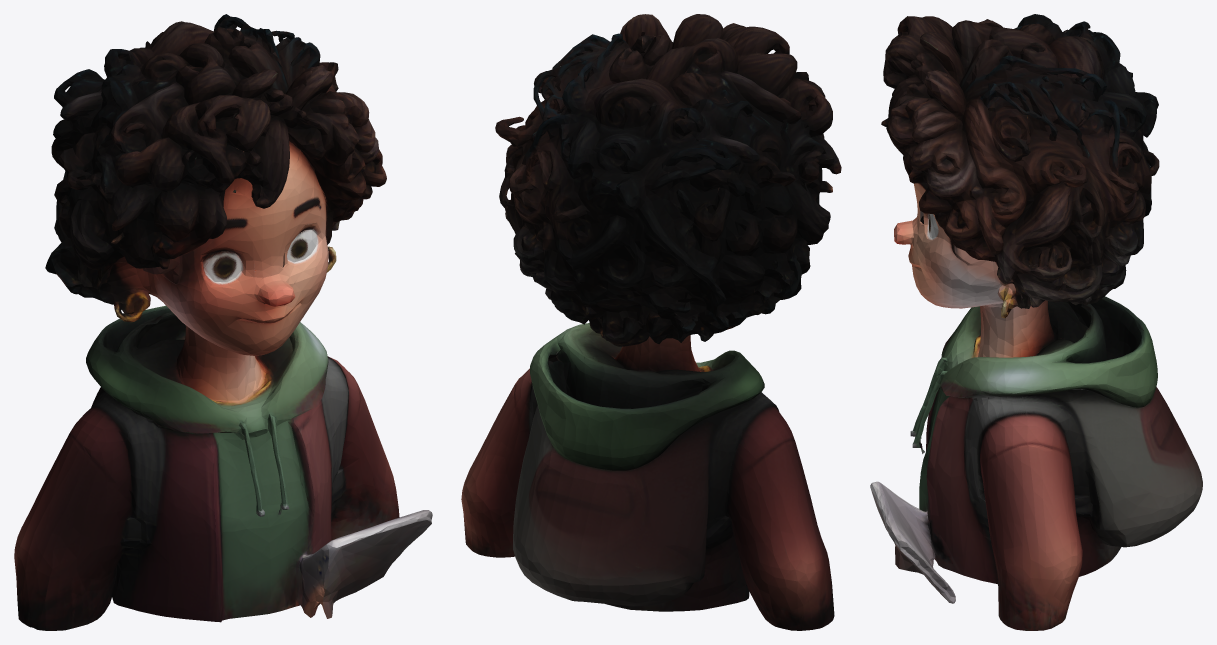
The model's file is fille2.glb.
3 renders of one model, left to right at view 1: azimuth 30°, elevation 25°; view 2: azimuth 150°, elevation 25°; view 3: azimuth 270°, elevation 25°, orthographic. The views are drawn at different scales.
Parts seen in each view (by area): view 1: world; view 2: world; view 3: world.
Boxes of the visible parts, left/top/right/bottom form: world: left=14, top=14, right=432, bottom=630; world: left=461, top=14, right=841, bottom=630; world: left=870, top=14, right=1202, bottom=630.
Size of the model in its own units: 0.7155 by 0.9995 by 0.5893.
Materials: 1 (1 with a texture image).
